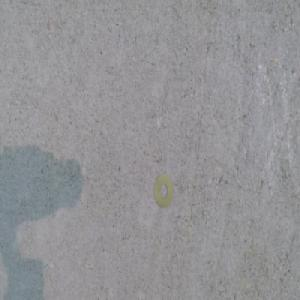Washer: (153, 174, 174, 207)
